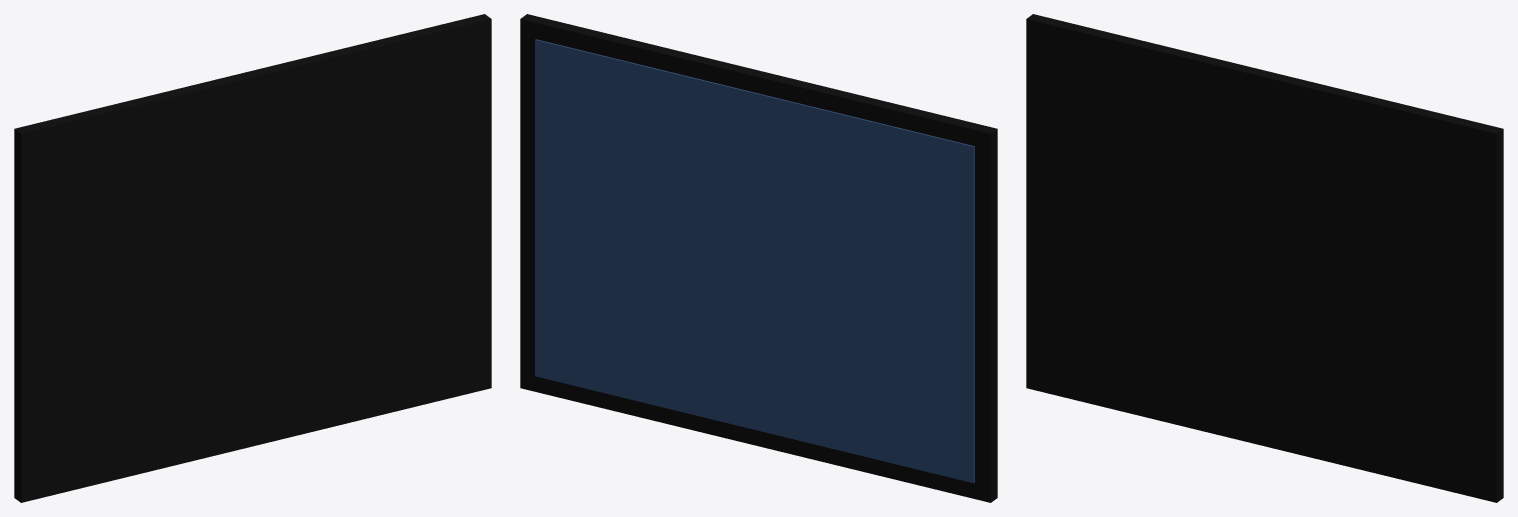
The model's file is home.art.picture_large.glb.
3 renders of one model, left to right at view 1: azimuth 30°, elevation 25°; view 2: azimuth 150°, elevation 25°; view 3: azimuth 330°, elevation 25°, orthographic.
Visible parts, largest first — view 1: main__plastic_black; view 2: main__fabric_blue, main__plastic_black; view 3: main__plastic_black.
Boxes of the visible parts, bbox=[...] form: main__plastic_black: bbox=[14, 14, 491, 502]; main__fabric_blue: bbox=[535, 39, 974, 483]; main__plastic_black: bbox=[520, 14, 997, 502]; main__plastic_black: bbox=[1026, 14, 1503, 502].
Bounding box in the file's own units: 1.2 × 0.9 × 0.034.
